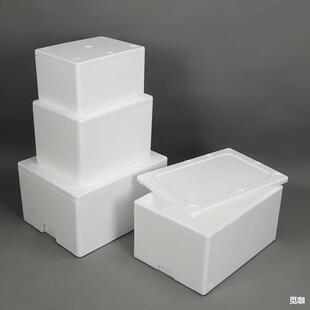Boxes: (18, 37, 286, 294)
